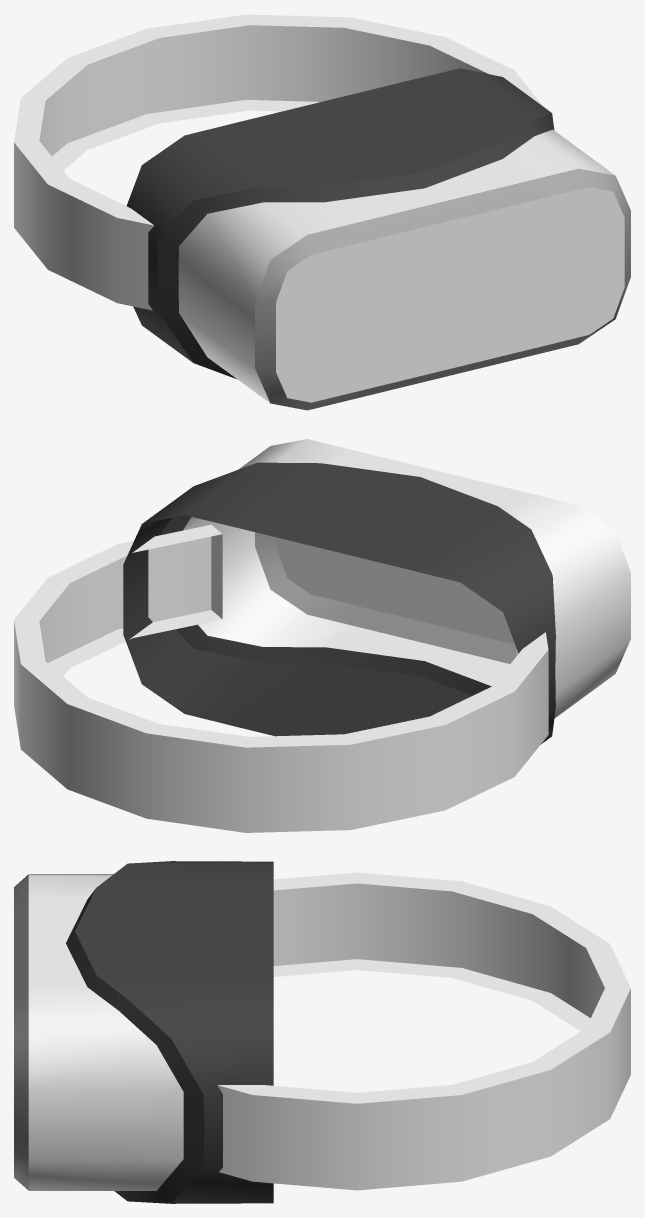
Rendered from Capsule_Head_Prop_VR_01.fbx.
3 renders of one model, top to bottom at view 1: azimuth 30°, elevation 25°; view 2: azimuth 150°, elevation 25°; view 3: azimuth 270°, elevation 25°, orthographic.
Parts seen in each view (by area): view 1: Capsule_Head_Prop_VR_01; view 2: Capsule_Head_Prop_VR_01; view 3: Capsule_Head_Prop_VR_01.
Part boxes in pixels (<box>): Capsule_Head_Prop_VR_01: <box>14,14,630,410</box>; Capsule_Head_Prop_VR_01: <box>14,439,630,832</box>; Capsule_Head_Prop_VR_01: <box>14,861,630,1203</box>.
Bounding box in the file's own units: 109 × 44.46 × 123.
